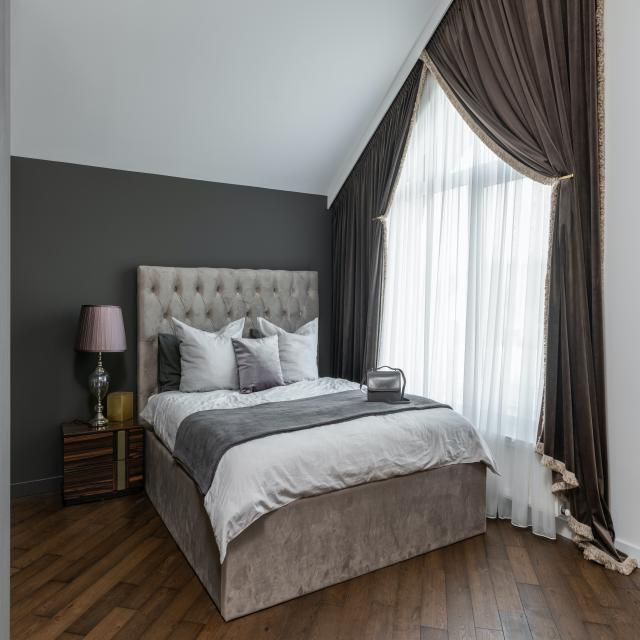floor: (10, 490, 640, 640)
wall: (10, 156, 332, 499), (10, 0, 440, 196), (327, 0, 452, 209), (601, 0, 640, 569)
